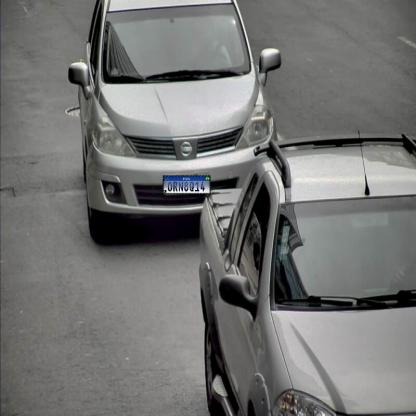PlacaM: (162, 176, 210, 194)
